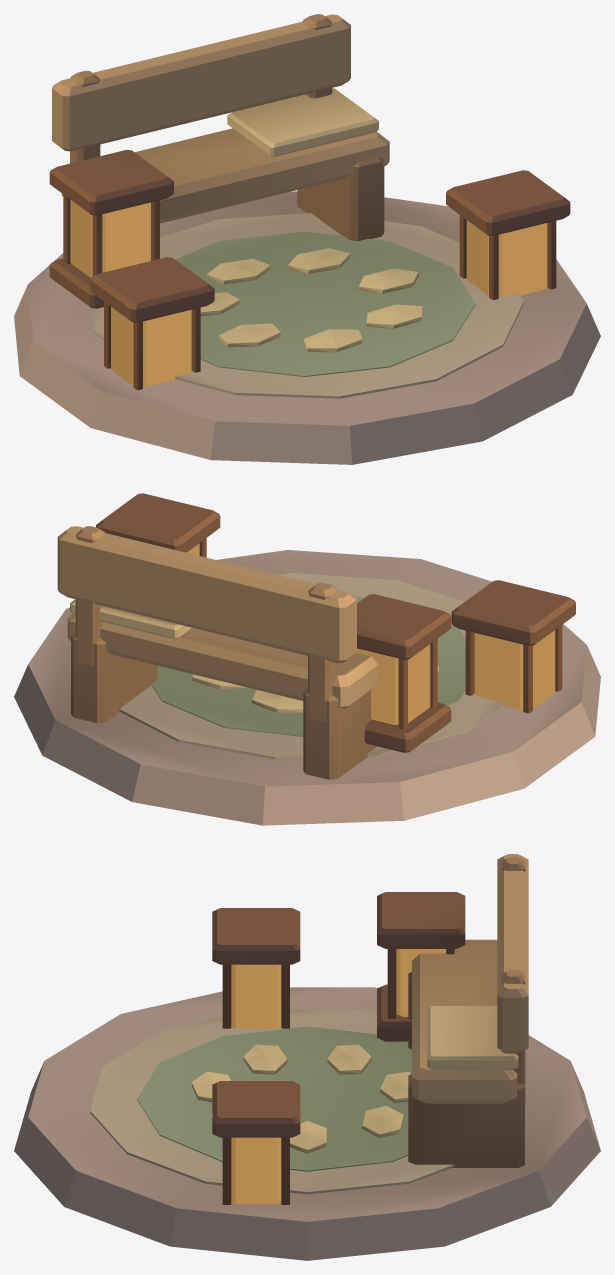
File: dusk_camp.glb
The picture shows the model from 3 angles, top to bottom: view 1: azimuth 30°, elevation 25°; view 2: azimuth 150°, elevation 25°; view 3: azimuth 270°, elevation 25°; orthographic projection.
Parts seen in each view (by area): view 1: Glockenrast · Bank und ruhiges Licht; view 2: Glockenrast · Bank und ruhiges Licht; view 3: Glockenrast · Bank und ruhiges Licht.
Boxes of the visible parts, bbox=[...] form: Glockenrast · Bank und ruhiges Licht: bbox=[14, 14, 600, 464]; Glockenrast · Bank und ruhiges Licht: bbox=[14, 493, 600, 825]; Glockenrast · Bank und ruhiges Licht: bbox=[14, 854, 600, 1260].
Bounding box in the file's own units: 2.05 × 0.85 × 2.06.
